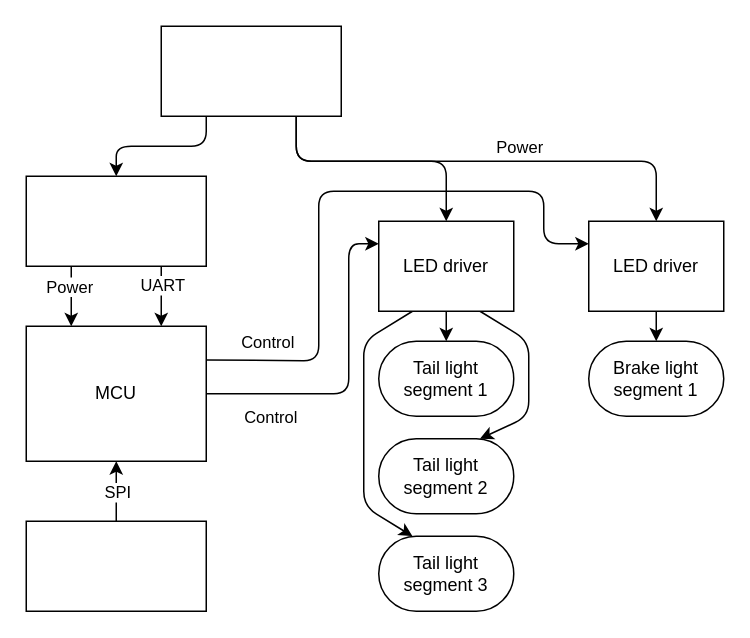
The diagram is 750 pixels wide and 638 high, and some of its shapes have lost their labels. The shapes that lost their labels are listed below. From the top down, each one's centre as x and y in pixels, then its label:
At (x=250, y=70): "Connector".
At (x=115, y=220): "LIN Transceiver".
At (x=115, y=565): "Accelerometer".
